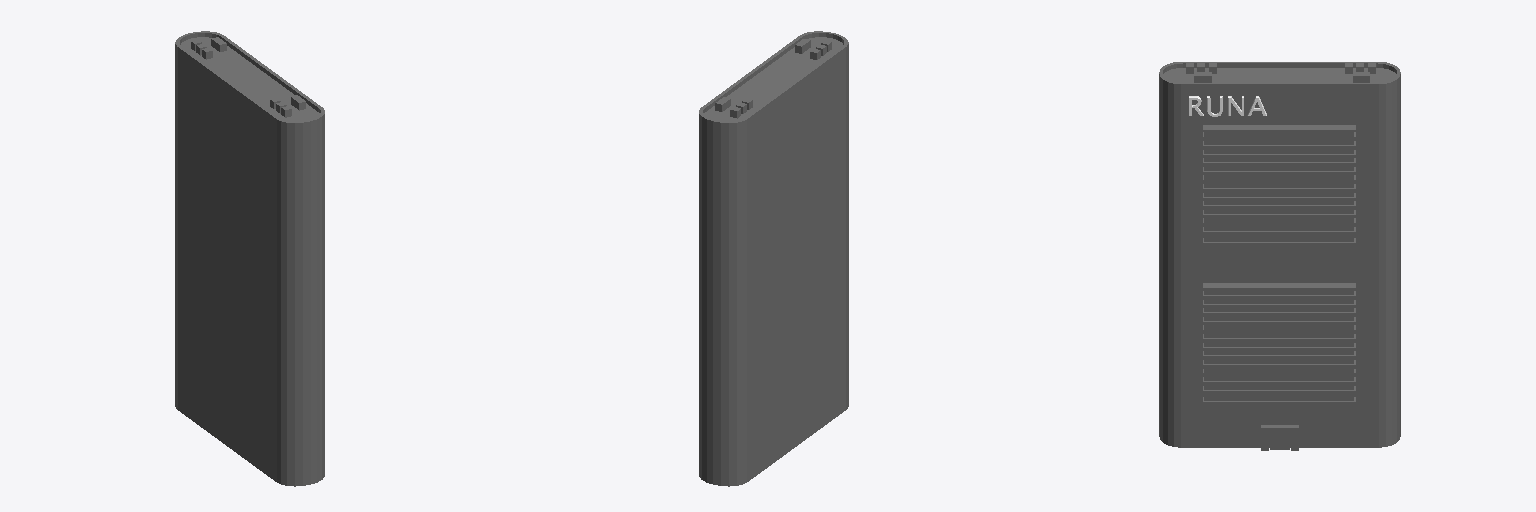
Rendered from ver3.obj.
3 renders of one model, left to right at view 1: azimuth 30°, elevation 25°; view 2: azimuth 150°, elevation 25°; view 3: azimuth 270°, elevation 25°, orthographic.
Visible parts, largest first — view 1: polySurface174; view 2: polySurface174; view 3: polySurface174.
Boxes of the visible parts, box(x1,y1,x2,y2) form: polySurface174: box(175, 31, 324, 486); polySurface174: box(699, 31, 848, 486); polySurface174: box(1159, 62, 1400, 450).
Bounding box in the file's own units: 3.41 × 20.74 × 12.33.